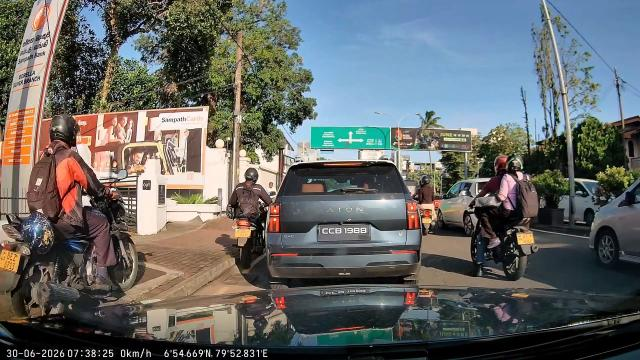illegal overtaking: (3, 103, 143, 302)
number plate: (2, 250, 23, 273)
